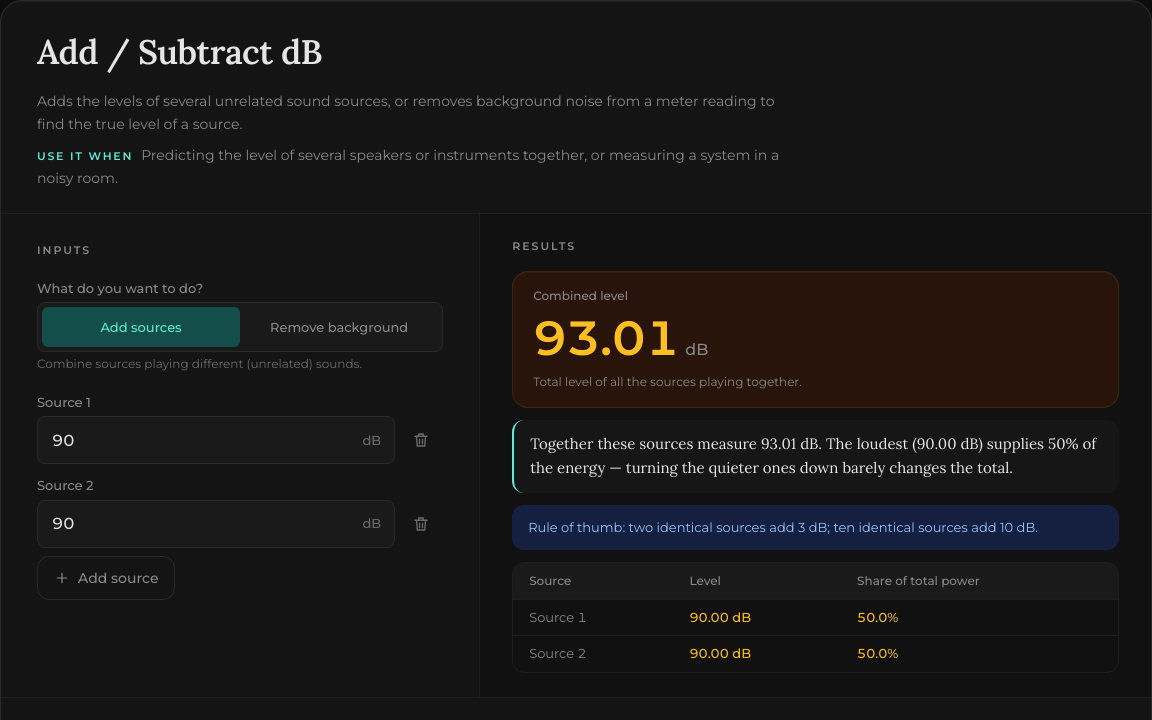
Test: calculator interactions › add / subtract dB switches modes and flags an unreliable correction
The image size is (1152, 720).
Click the radio button labelled "Remove background": (339, 327) [240,307,438,347]
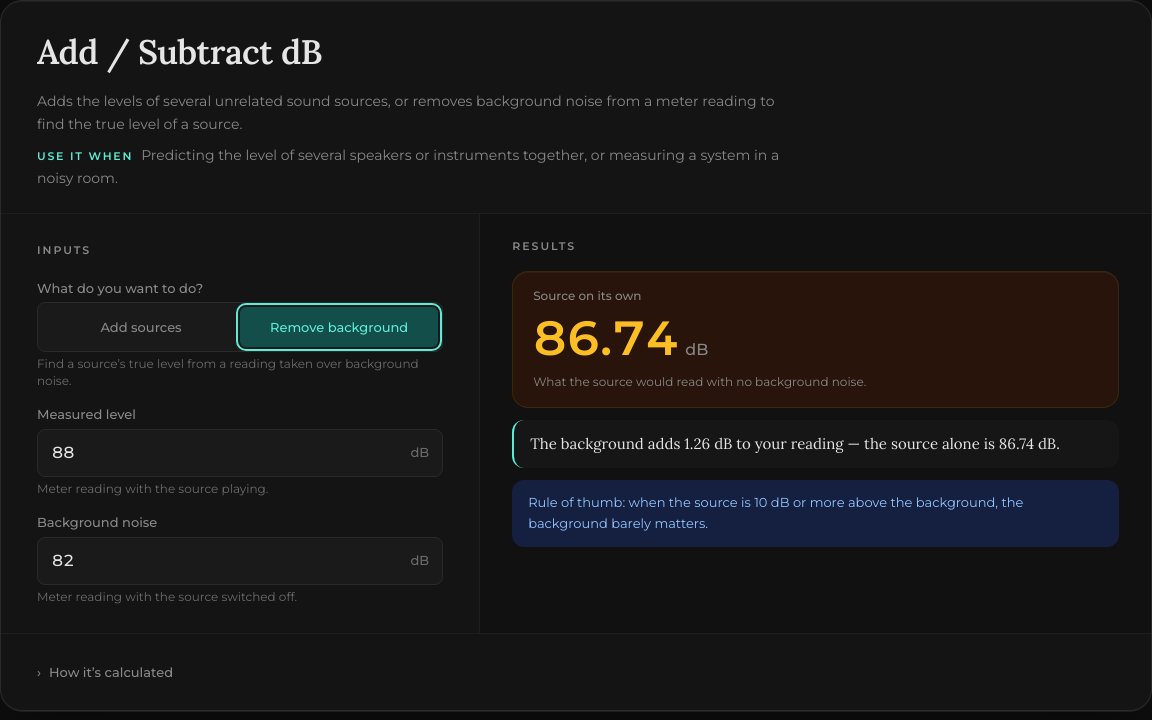
Replace the text in the field labelled "Background noise" with "87": (240, 561) [37,537,443,585]
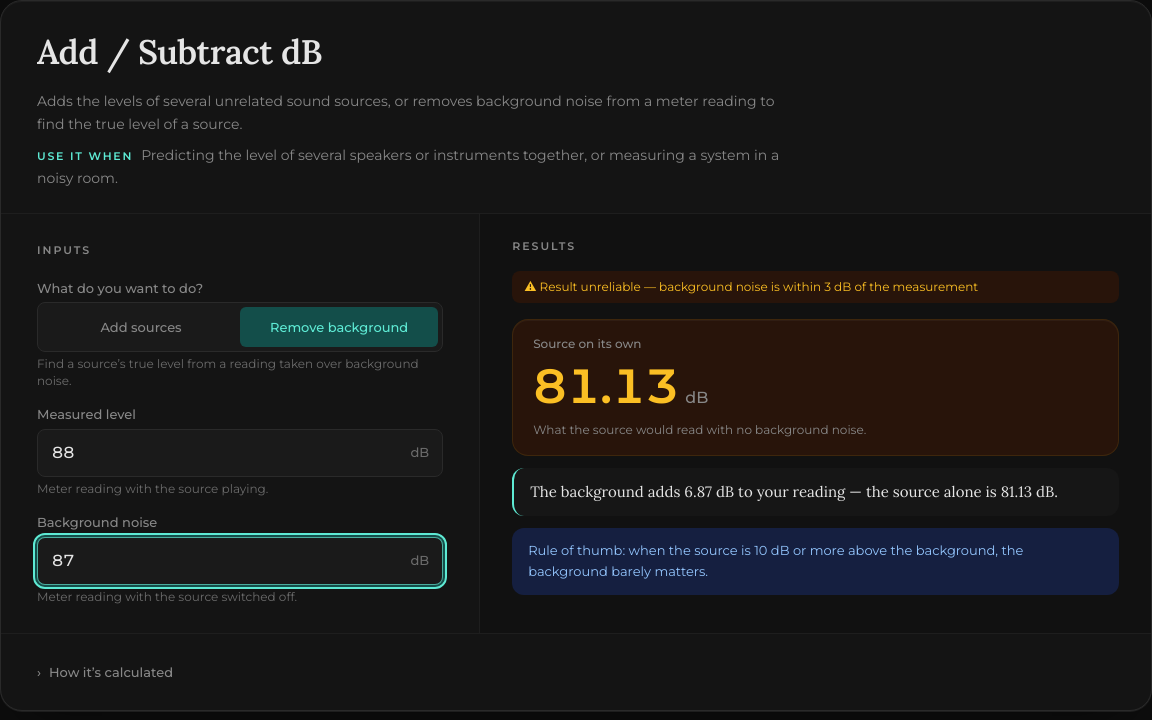
expect the list named "Warnings" shows "unreliable": met, box [540,279,978,294]
